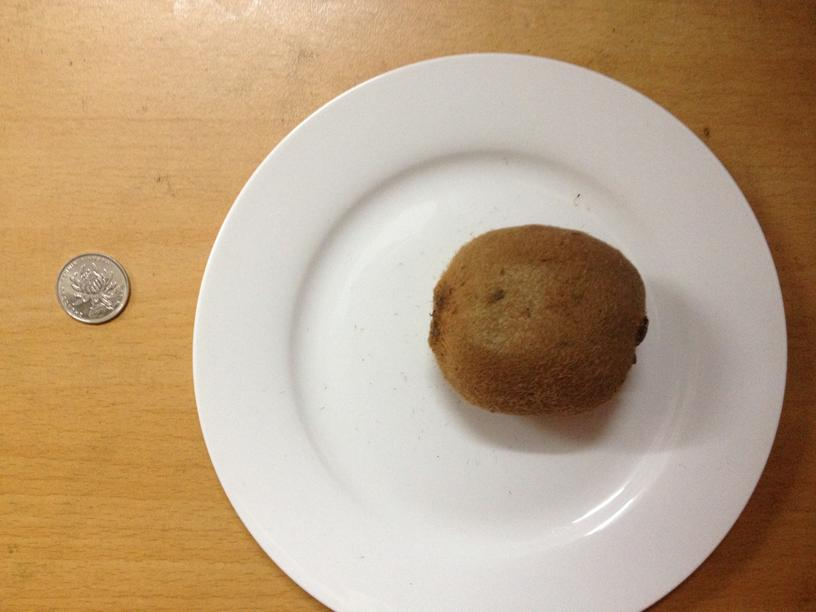coin: (55, 252, 128, 324)
qiwi: (437, 231, 646, 412)
